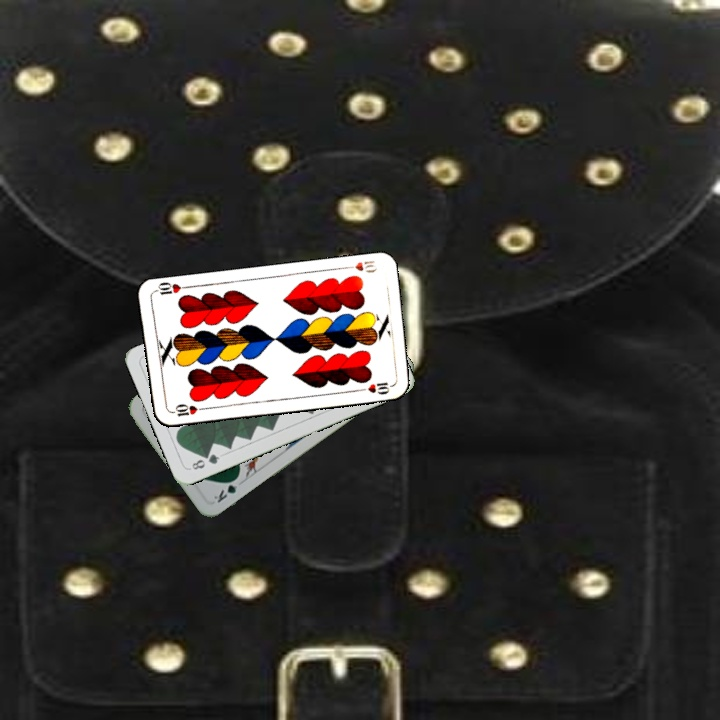G8: (186, 450, 222, 472)
GK: (209, 473, 242, 506)
H10: (166, 400, 207, 419), (339, 257, 380, 276)
